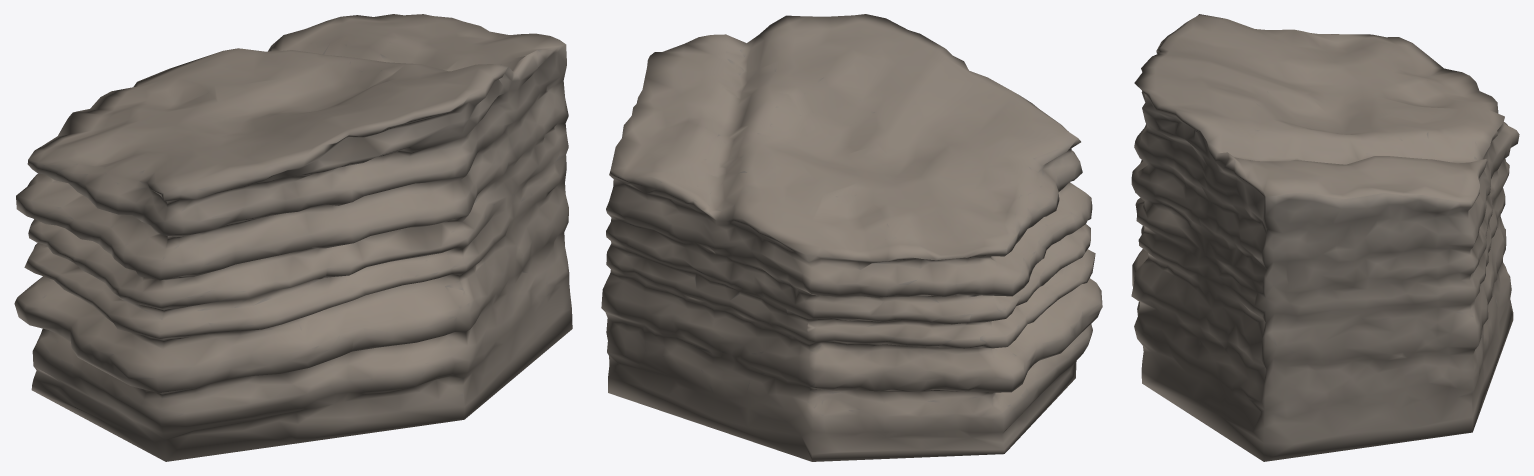
File: trial.glb
3 views of the same model, side by side, from view 1: azimuth 30°, elevation 25°; view 2: azimuth 150°, elevation 25°; view 3: azimuth 270°, elevation 25° (orthographic). The views are drawn at different scales.
Visible parts, largest first — view 1: GAME_IndependentSandstone; view 2: GAME_IndependentSandstone; view 3: GAME_IndependentSandstone.
Boxes of the visible parts, x1,y1,x2,y2 form: GAME_IndependentSandstone: (14, 14, 572, 461); GAME_IndependentSandstone: (601, 14, 1102, 461); GAME_IndependentSandstone: (1131, 14, 1519, 461).
Size of the model in its own units: 0.8874 by 0.56 by 0.669.
1 material, 1 textured.
